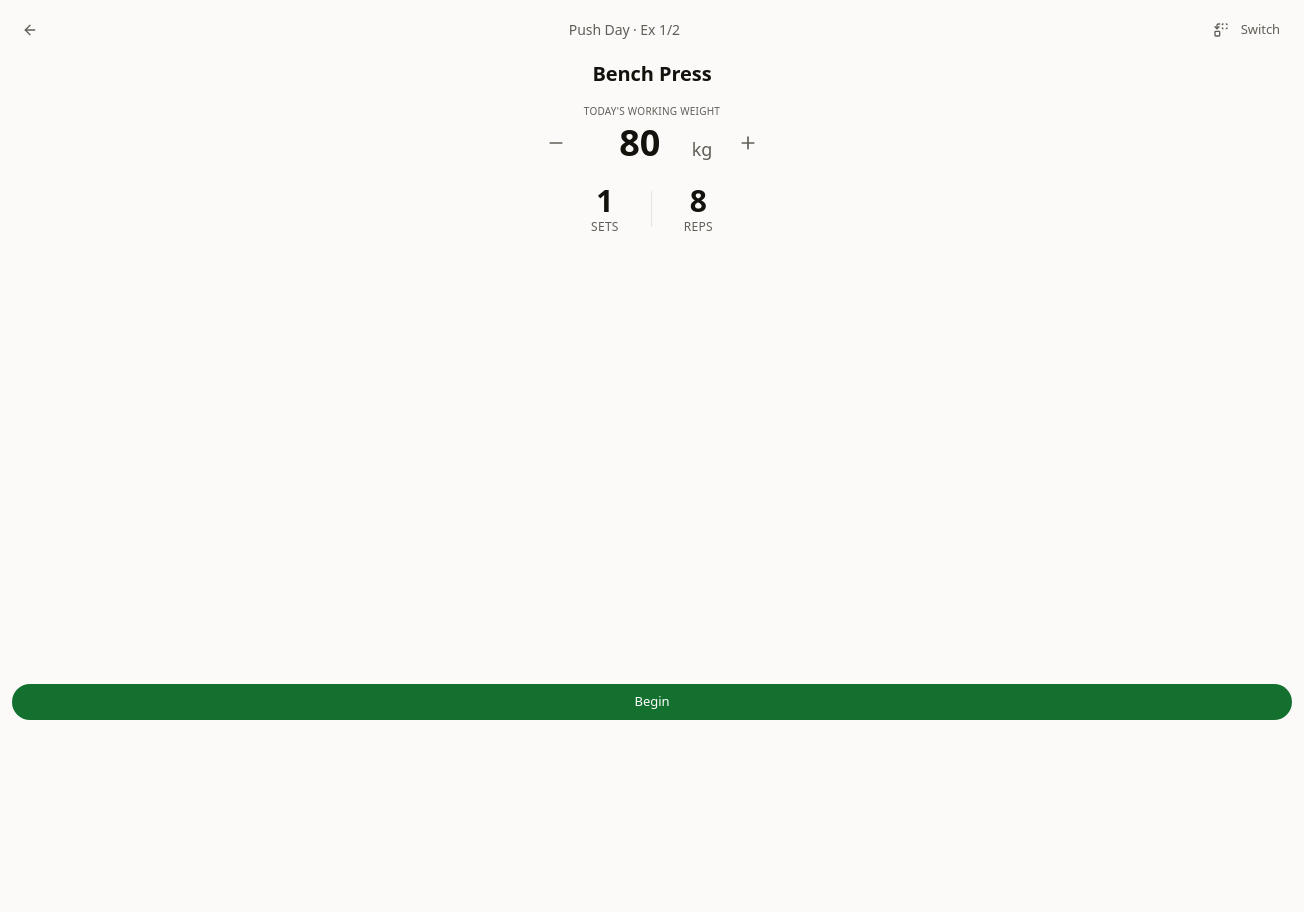
Scenario: does not adopt another session's stale extras
What coordinates should you click on to do the following:
click the button with aria-label "Jump to another exercise"
I would click on:
 (1246, 30)
Its box is [1201, 14, 1292, 46].
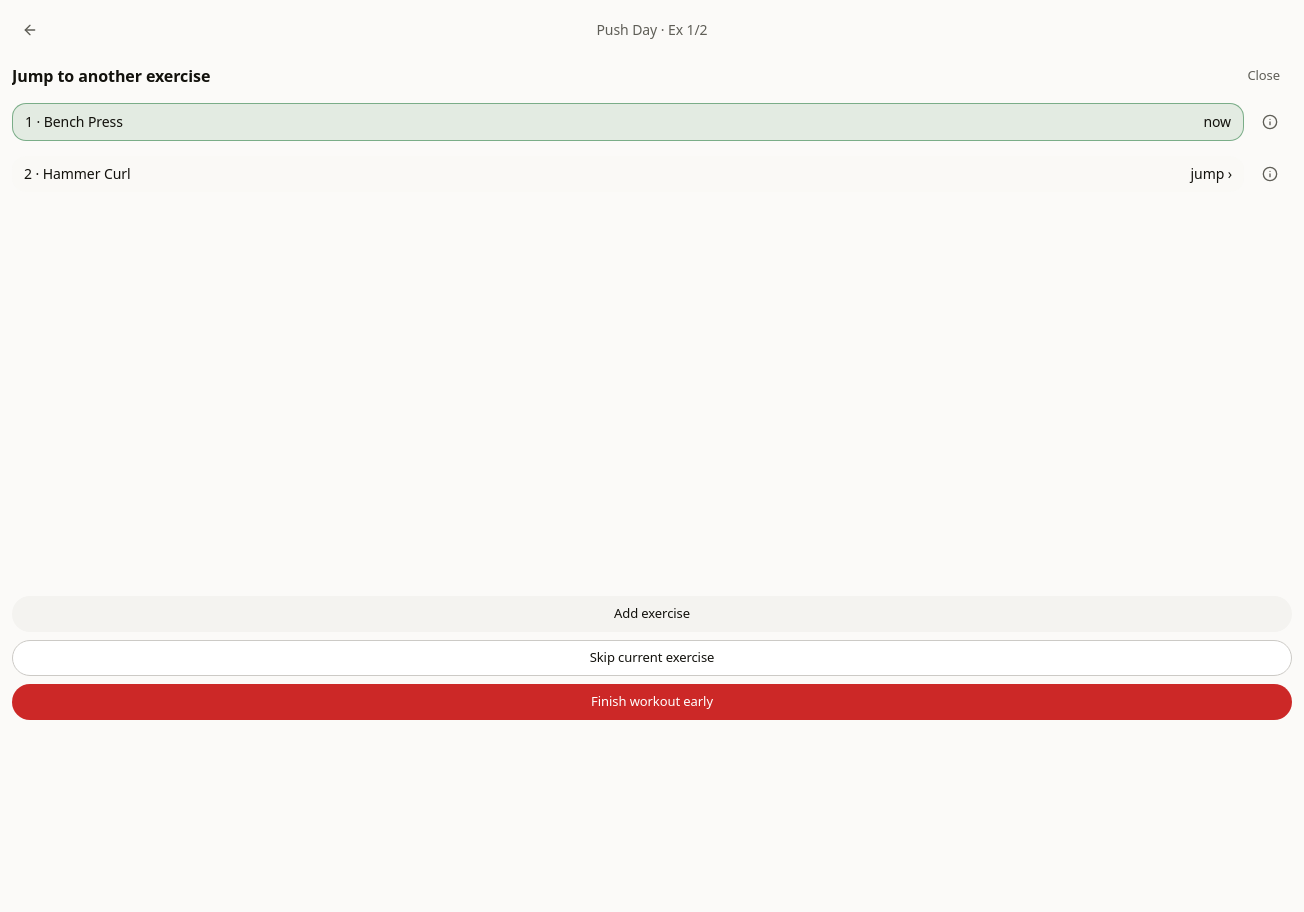
Result: the text "2 · Hammer Curl" is shown at [24, 164, 130, 184]
